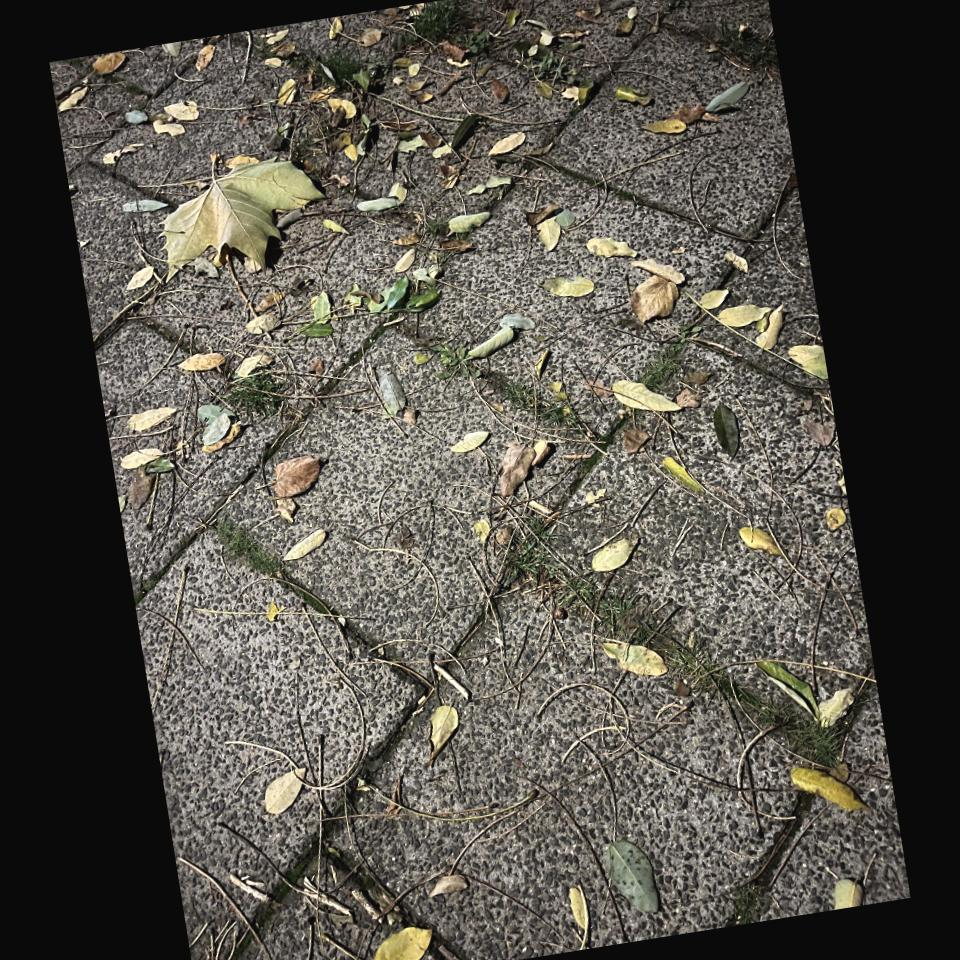weed: (506, 547, 846, 769), (408, 329, 589, 436), (404, 5, 570, 84), (209, 515, 300, 583), (302, 39, 378, 91), (237, 375, 287, 417)
